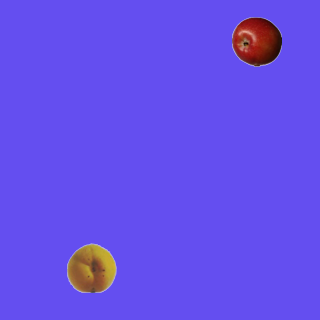Apple Braeburn: (231, 16, 281, 66)
Peach 2: (66, 242, 116, 292)
